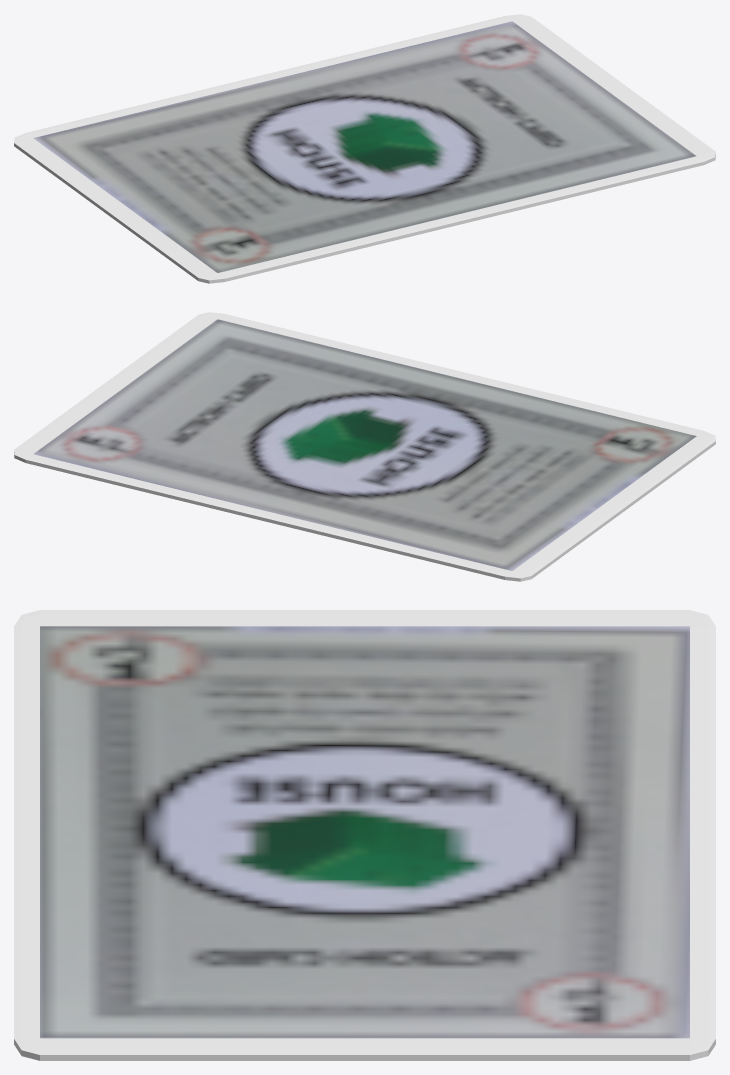
Rendered from house.glb.
The picture shows the model from 3 angles, top to bottom: view 1: azimuth 30°, elevation 25°; view 2: azimuth 150°, elevation 25°; view 3: azimuth 270°, elevation 25°; orthographic projection. The views are drawn at different scales.
Parts seen in each view (by area): view 1: Cube; view 2: Cube; view 3: Cube.
Boxes of the visible parts, x1,y1,x2,y2 form: Cube: (14,14,715,283); Cube: (14,312,715,581); Cube: (14,610,715,1060).
Bounding box in the file's own units: 0.6 × 0.004 × 0.4.
Materials: 3 (2 with a texture image).
